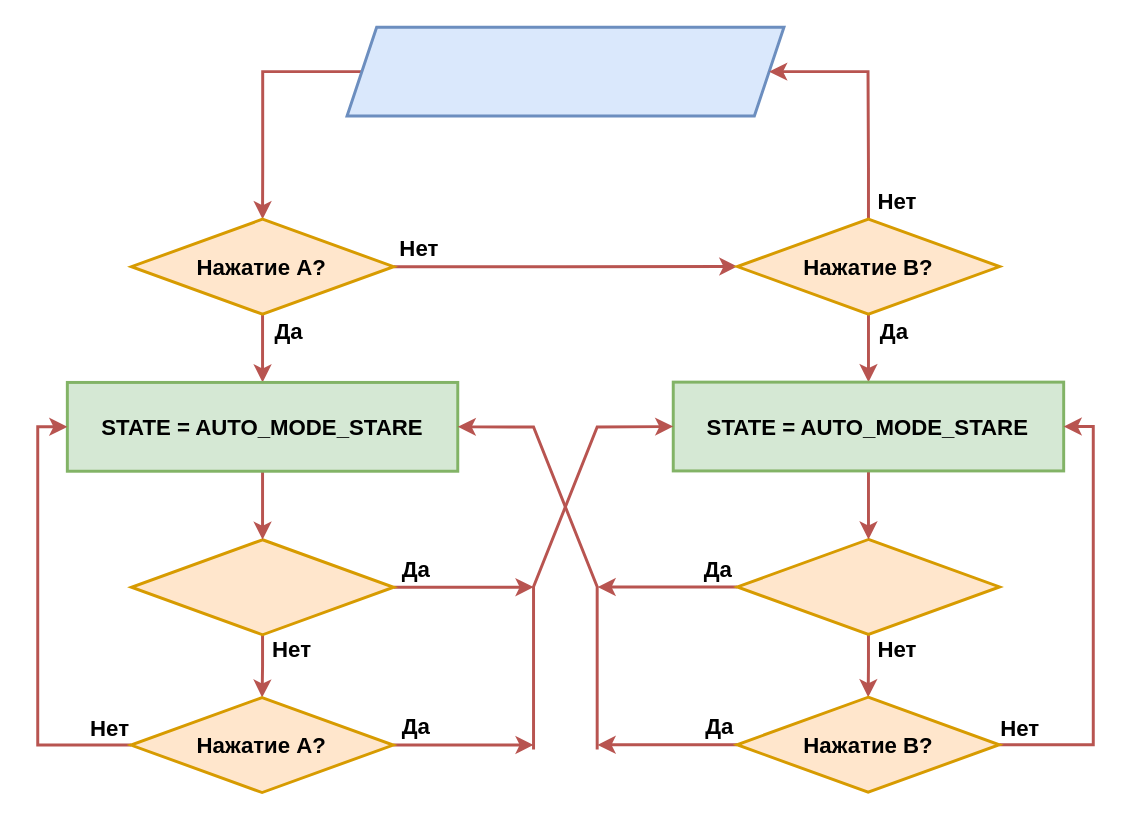
Image size: 1132x820. Some labels were removed from this diagram. Each missing label, with the centre of its shape:
"Ввод от клавиатуры или пульта" belongs at [565,71].
"Долгое нажатие В 1 ?" belongs at [867,586].
"Долгое нажатие В 2 ?" belongs at [261,587].
